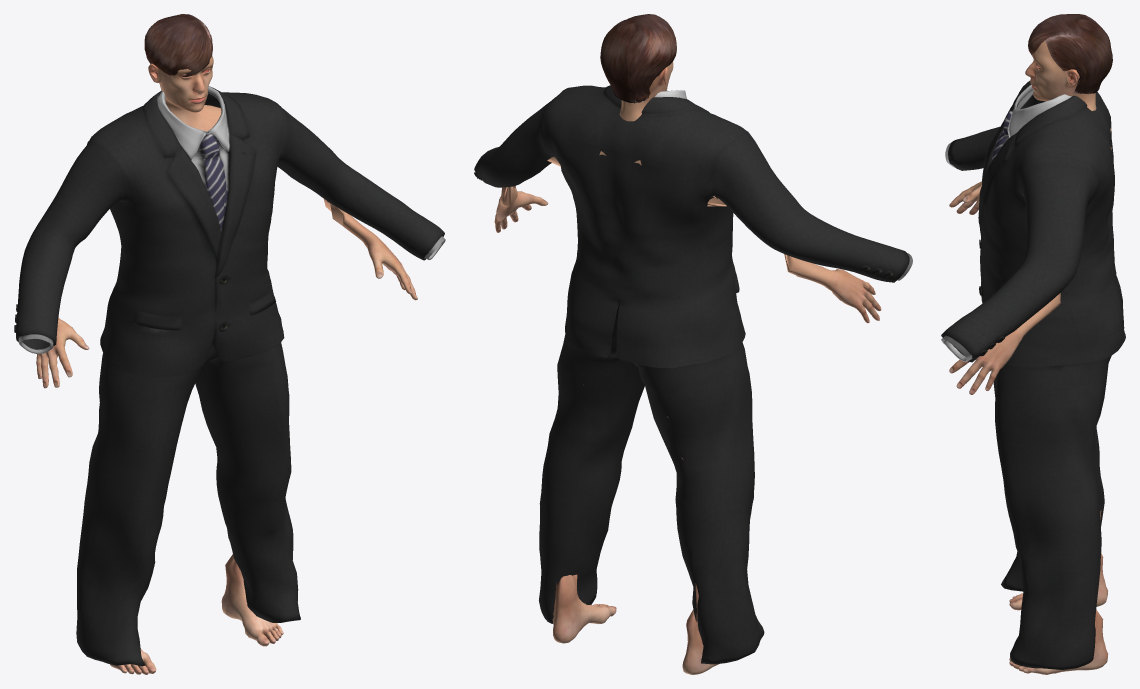
Rendered from parker.glb.
The picture shows the model from 3 angles, left to right: view 1: azimuth 30°, elevation 25°; view 2: azimuth 150°, elevation 25°; view 3: azimuth 270°, elevation 25°; orthographic projection.
Parts seen in each view (by area): view 1: clothes_male_elegantsuit01, Human, hair_short03; view 2: clothes_male_elegantsuit01, Human, hair_short03; view 3: clothes_male_elegantsuit01, Human, hair_short03.
Part boxes in pixels (bbox=[...]): clothes_male_elegantsuit01: bbox=[14, 86, 445, 666]; Human: bbox=[36, 55, 417, 674]; hair_short03: bbox=[144, 14, 212, 87]; clothes_male_elegantsuit01: bbox=[474, 85, 912, 664]; Human: bbox=[494, 62, 881, 674]; hair_short03: bbox=[600, 14, 676, 103]; clothes_male_elegantsuit01: bbox=[941, 81, 1125, 669]; Human: bbox=[949, 40, 1111, 674]; hair_short03: bbox=[1028, 14, 1112, 94].
Bounding box in the file's own units: 1.29 × 1.79 × 0.4843.
Materials: 4 (4 with a texture image).
